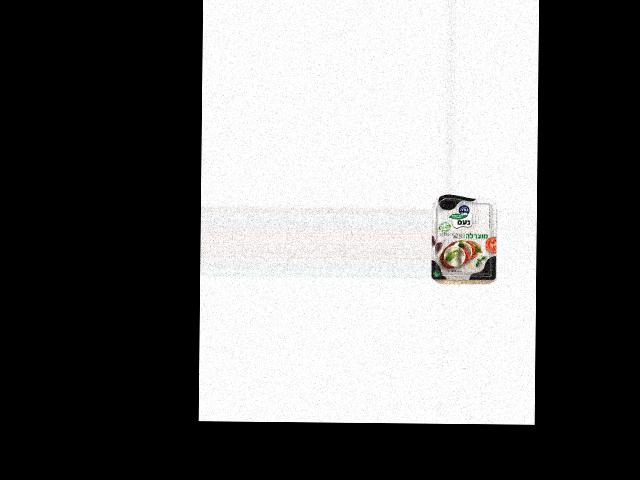cheese: (431, 195, 497, 281)
